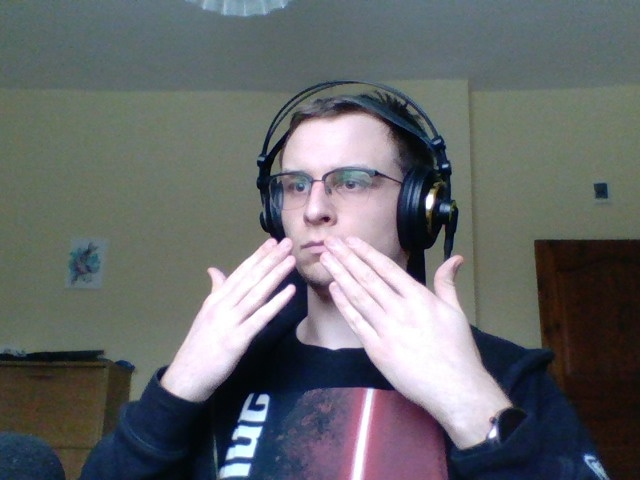thanks: (146, 229, 518, 451)
